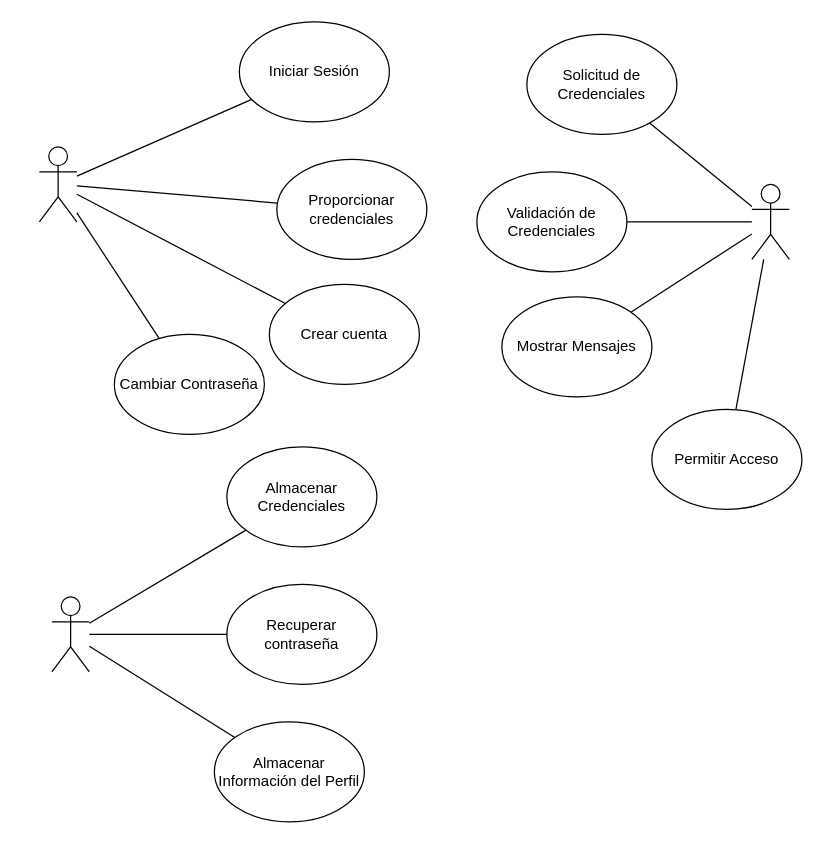
Image size: 824x844. Some labels were removed from this diagram. The centre of each missing label's shape, as x and y in pixels:
Base de Datos: the point at 70,634
Sistema: the point at 770,221
Usuario: the point at 57,184
